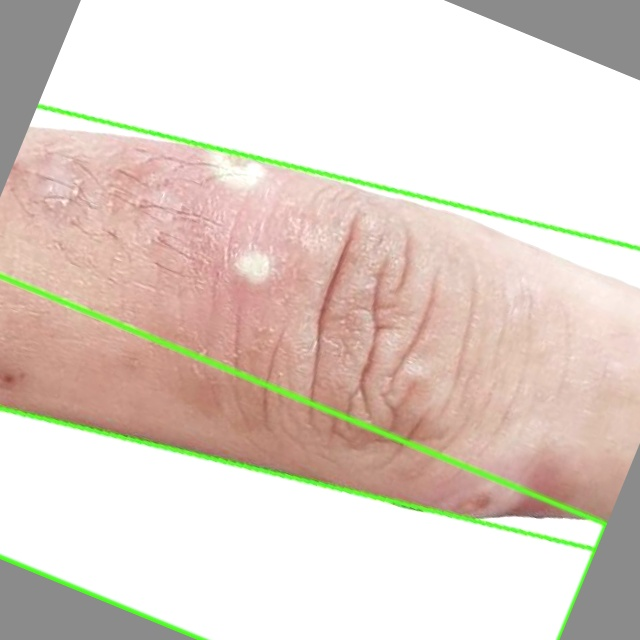Scabies: (0, 113, 639, 545), (0, 277, 605, 639)
